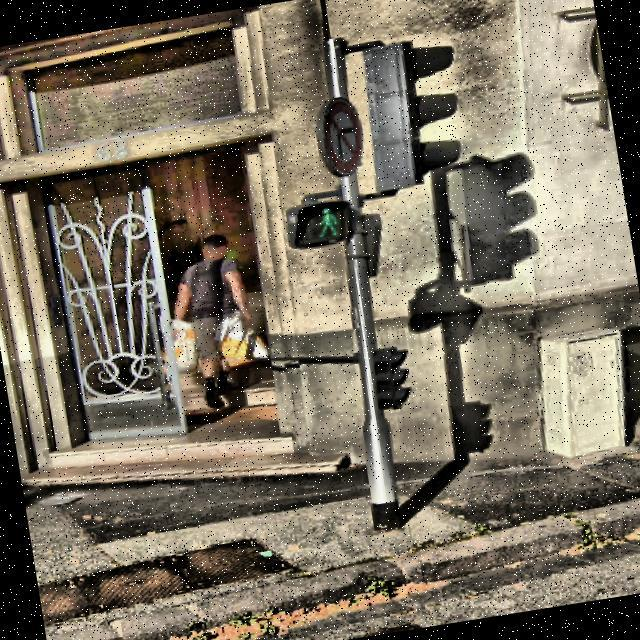green_light: (308, 202, 342, 242)
